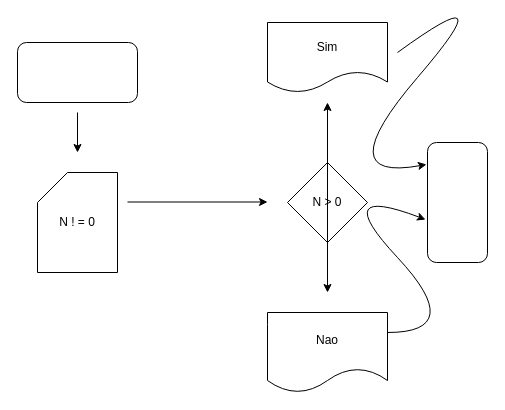
Some shapes in this 505 by 410 pixel diagram are drawn without their labels. Here are the shapes that lost their labels. From the top down, the centre of each, then its label:
the point at 77,72: Inicio
the point at 457,202: End
